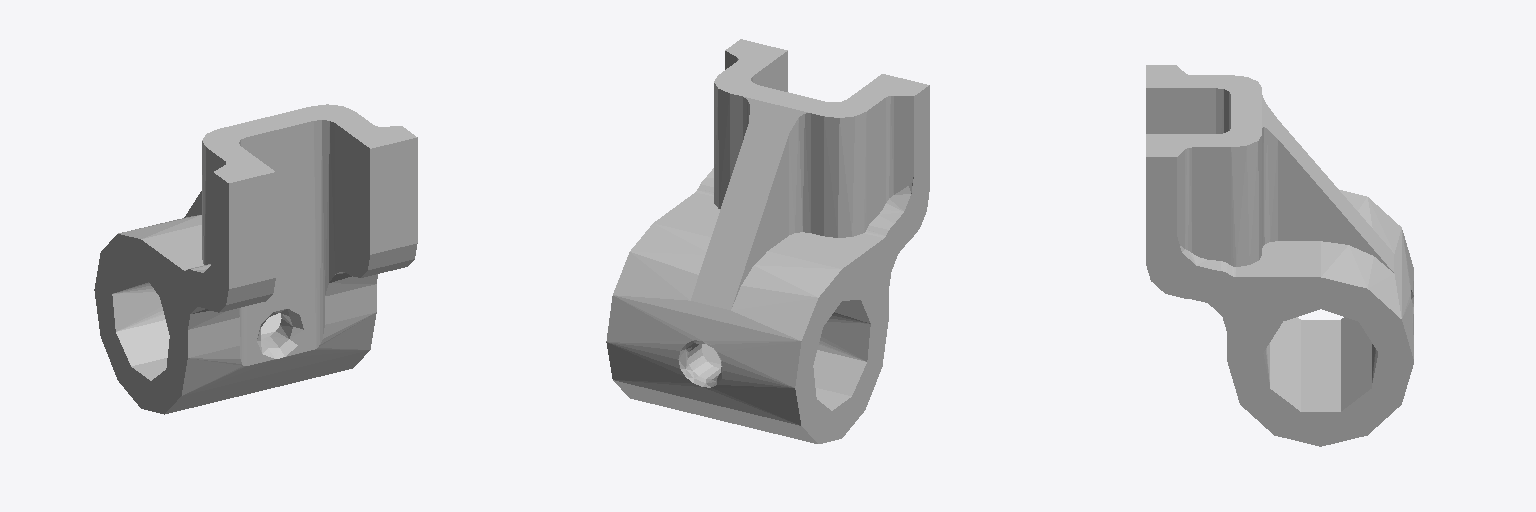
The model's file is 78. Головка штока первой и второй передач.obj.
The picture shows the model from 3 angles: view 1: azimuth 30°, elevation 25°; view 2: azimuth 150°, elevation 25°; view 3: azimuth 270°, elevation 25°; orthographic projection.
Parts seen in each view (by area): view 1: Твердое тело1; view 2: Твердое тело1; view 3: Твердое тело1.
Boxes of the visible parts, x1=… form: Твердое тело1: x1=94, y1=104, x2=417, y2=414; Твердое тело1: x1=606, y1=39, x2=929, y2=443; Твердое тело1: x1=1146, y1=65, x2=1413, y2=446.
Bounding box in the file's own units: 28 × 41 × 34.5.